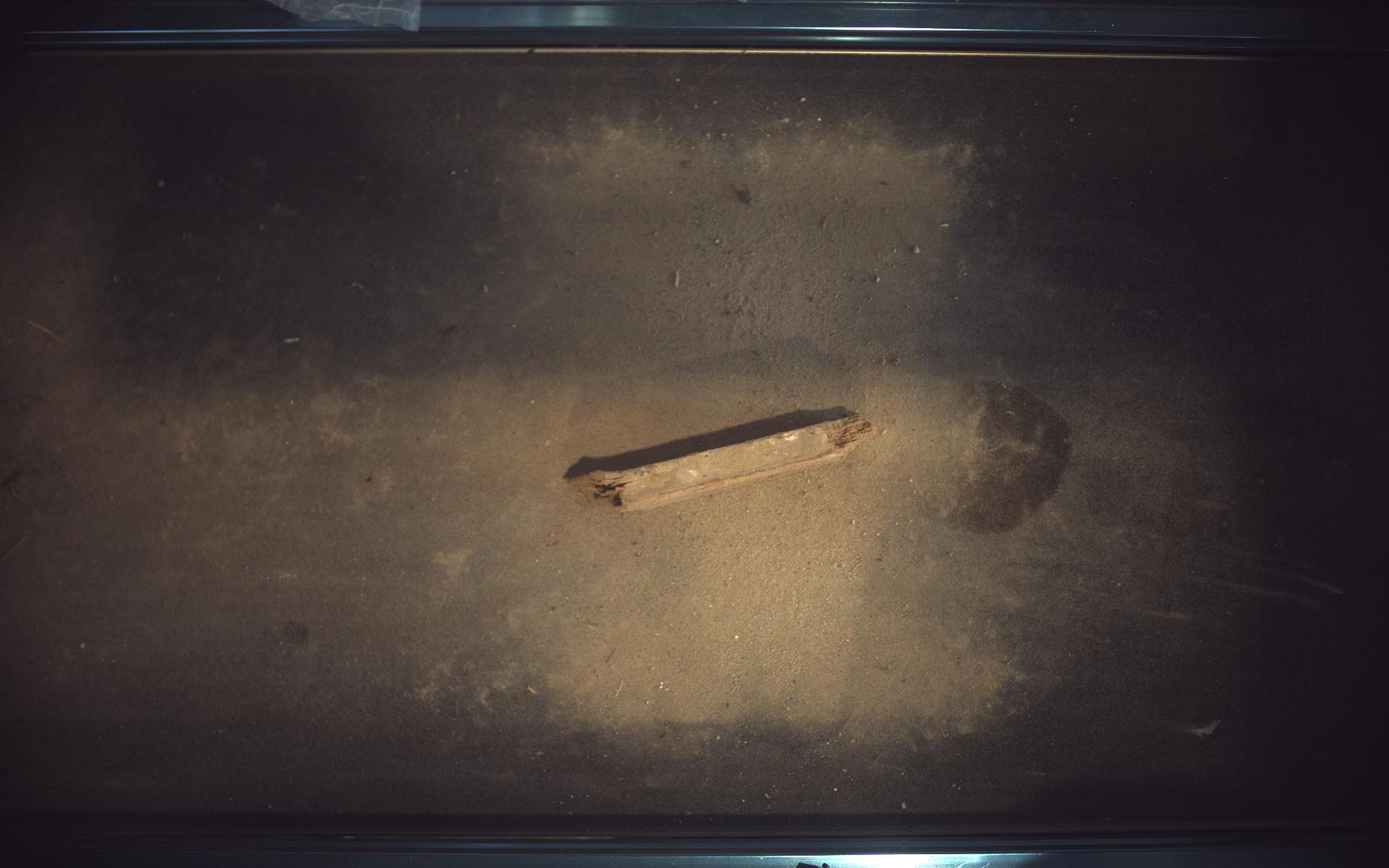wood: (567, 407, 877, 511)
